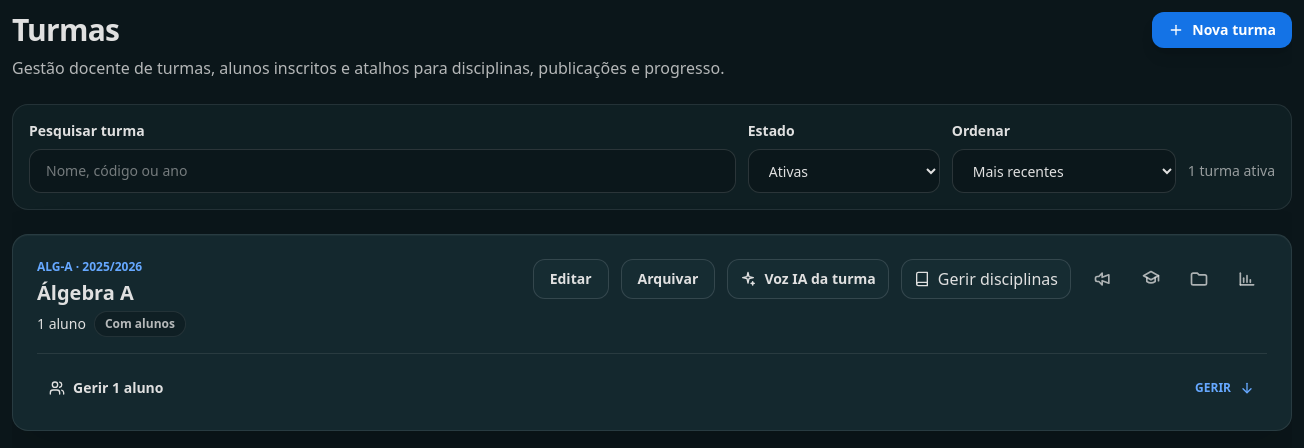
Scenario: TeacherClassesPage › separa trabalho ativo do arquivo de turmas
This screenshot has width=1304, height=448.
Expected: the heading "Álgebra A" is shown, [37, 279, 134, 306]
Expected: the text "Turma histórica" is not shown
Select "Arquivo" in the dropdown labelled "Estado": {"x": 844, "y": 171} [748, 149, 940, 193]
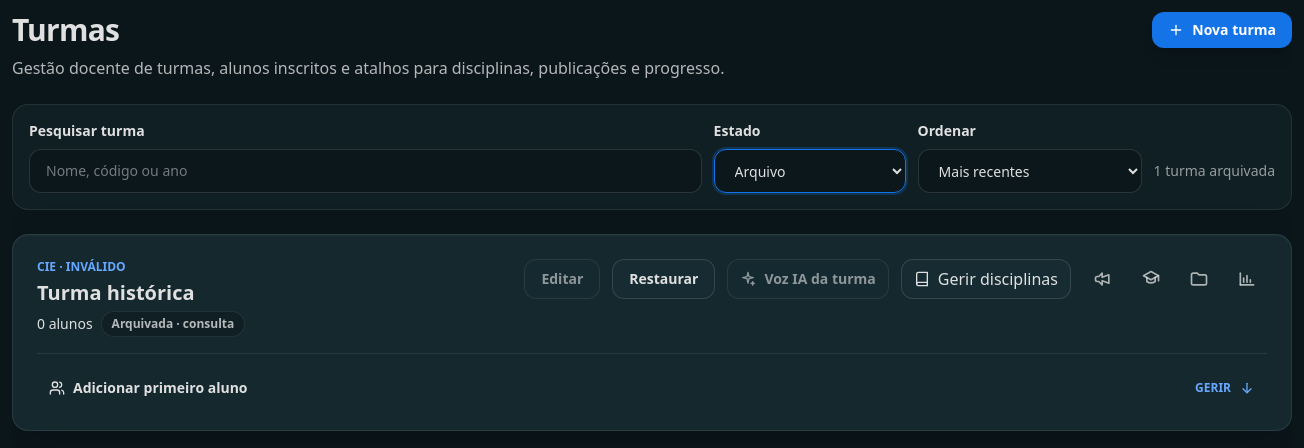
Expected: the heading "Turma histórica" is shown, [37, 279, 194, 306]
Expected: the heading "Álgebra A" is gone
Expected: the text "1 turma arquivada" is shown, [1154, 161, 1275, 180]
